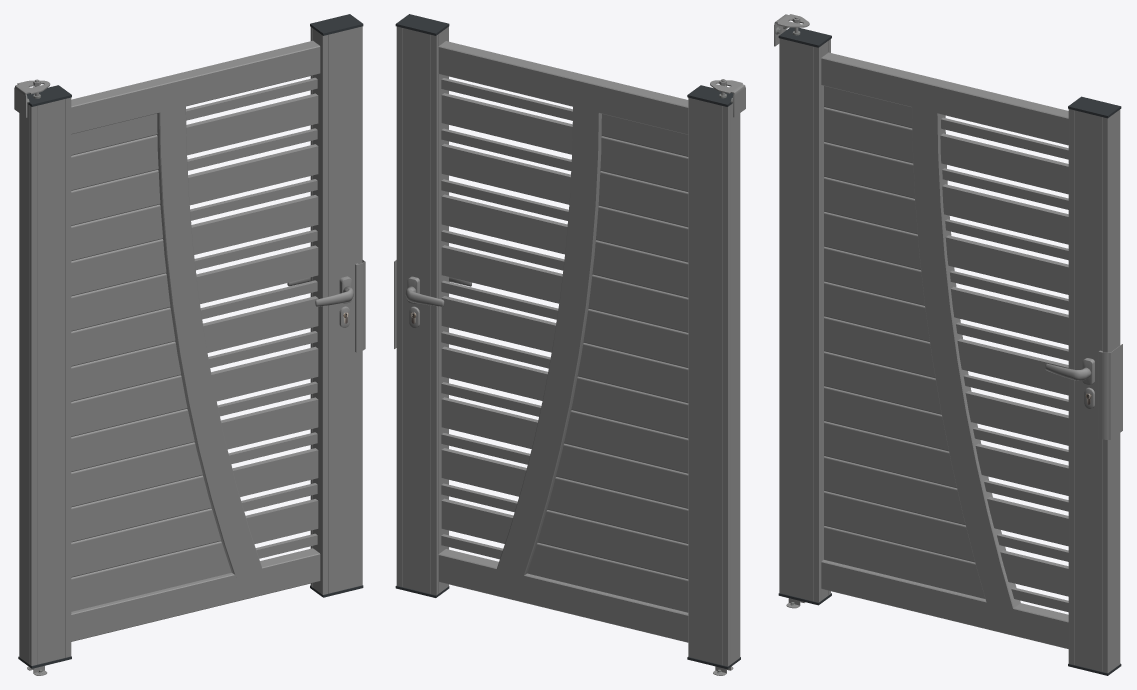
3 views of the same model, side by side, from view 1: azimuth 30°, elevation 25°; view 2: azimuth 150°, elevation 25°; view 3: azimuth 330°, elevation 25° (orthographic).
Parts seen in each view (by area): view 1: Shape331, Shape107412643, Shape107412644, Shape200, Shape095, Shape096, Shape302, Shape300, Shape298, Shape296, Shape294, Shape292 (+17 smaller); view 2: Shape331, Shape107412643, Shape107412644, Shape200, Shape095, Shape096, Shape302, Shape300, Shape298, Shape296, Shape294, Shape292 (+16 smaller); view 3: Shape331, Shape107412644, Shape107412643, Shape200, Shape095, Shape096, Shape302, Shape300, Shape298, Shape296, Shape294, Shape292 (+16 smaller).
Part boxes in pixels (<box>): Shape331: <box>71,113,231,611</box>; Shape107412643: <box>19,97,71,665</box>; Shape107412644: <box>310,26,362,594</box>; Shape200: <box>157,106,263,589</box>; Shape095: <box>71,40,320,134</box>; Shape096: <box>71,548,320,641</box>; Shape302: <box>186,93,318,155</box>; Shape300: <box>188,144,318,205</box>; Shape298: <box>191,195,318,254</box>; Shape296: <box>196,245,318,304</box>; Shape294: <box>203,296,318,352</box>; Shape292: <box>211,346,318,401</box>; Shape331: <box>527,114,688,612</box>; Shape107412643: <box>688,97,740,666</box>; Shape107412644: <box>396,26,448,595</box>; Shape200: <box>497,98,601,575</box>; Shape095: <box>438,41,688,134</box>; Shape096: <box>438,549,688,642</box>; Shape302: <box>441,93,572,154</box>; Shape300: <box>441,143,570,204</box>; Shape298: <box>441,194,567,254</box>; Shape296: <box>441,245,562,303</box>; Shape294: <box>441,296,556,352</box>; Shape292: <box>441,346,547,400</box>; Shape331: <box>824,86,985,598</box>; Shape107412644: <box>1068,109,1120,672</box>; Shape107412643: <box>779,38,830,602</box>; Shape200: <box>912,107,1020,619</box>; Shape095: <box>821,52,1068,145</box>; Shape096: <box>821,560,1068,648</box>; Shape302: <box>940,133,1068,194</box>; Shape300: <box>942,184,1068,244</box>; Shape298: <box>945,235,1068,294</box>; Shape296: <box>951,286,1068,345</box>; Shape294: <box>957,338,1068,395</box>; Shape292: <box>965,391,1068,445</box>.
Size of the model in its own units: 1014 by 1688 by 171.
Materials: 8 (4 with a texture image).
